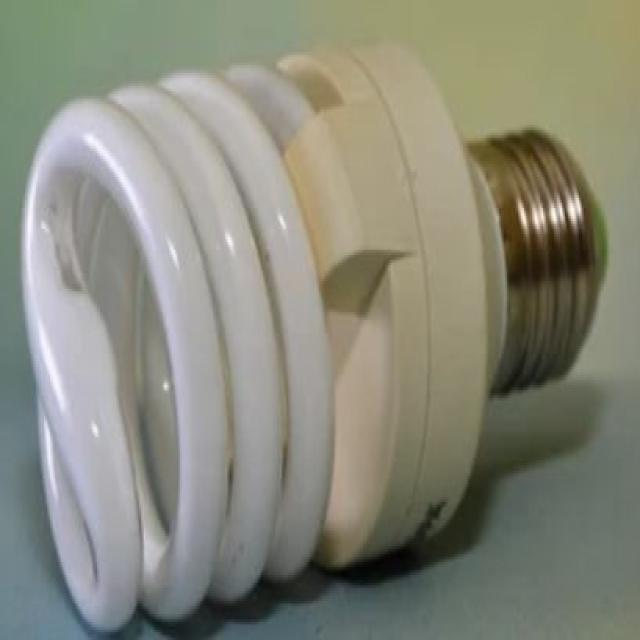electronic: (19, 34, 607, 635)
